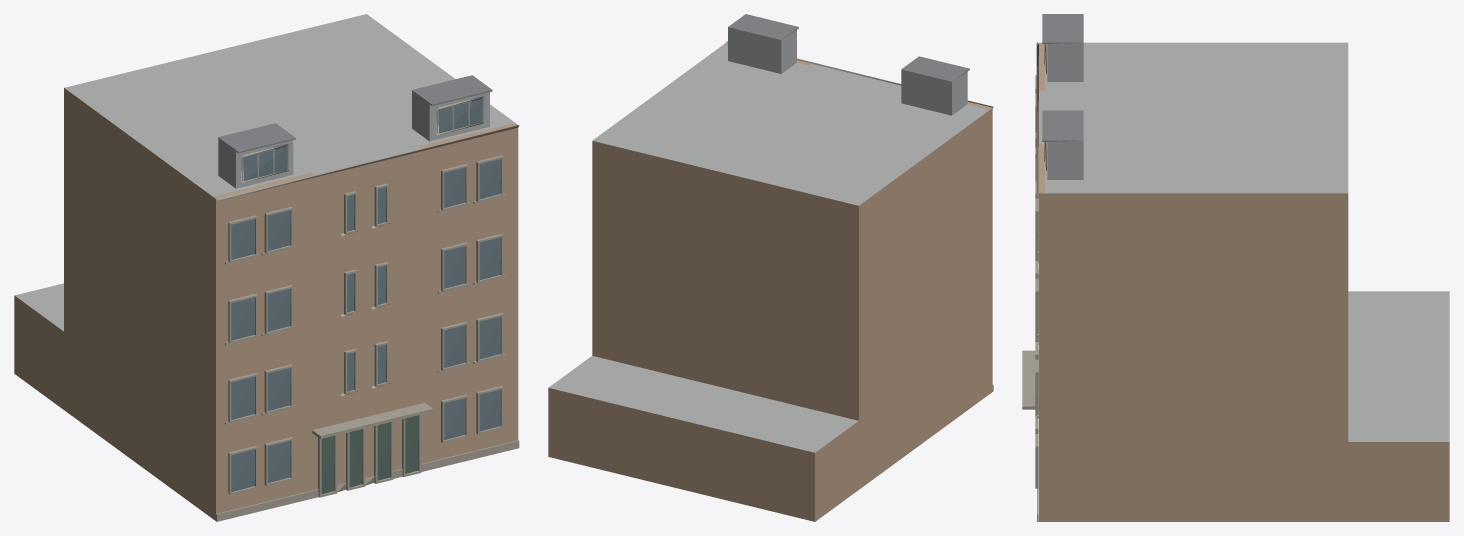
Rendered from chunk-face-haen-6-62-r1.lod2.glb.
The picture shows the model from 3 angles, left to right: view 1: azimuth 30°, elevation 25°; view 2: azimuth 150°, elevation 25°; view 3: azimuth 270°, elevation 25°; orthographic projection. The views are drawn at different scales.
Visible parts, largest first — view 1: lod2; view 2: lod2; view 3: lod2.
Boxes of the visible parts, x1,y1,x2,y2 form: lod2: [14, 14, 519, 521]; lod2: [548, 14, 993, 521]; lod2: [1022, 14, 1449, 521].
Bounding box in the file's own units: 12.8 × 14.63 × 15.35.
